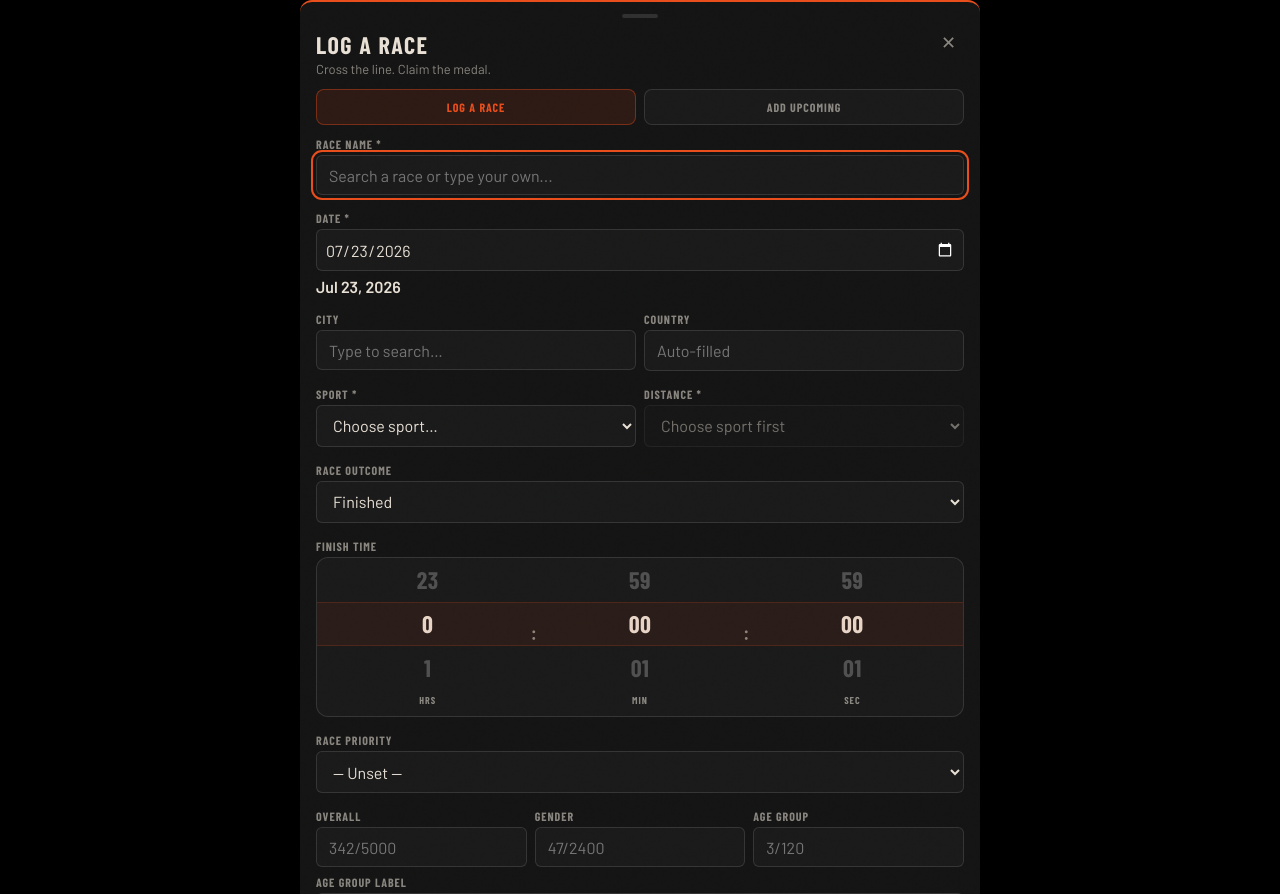
Test: AddRaceModal — catalog suggestions › shows suggestion when catalog contains a match
The image size is (1280, 894).
(page scrolled)
Type "berlin" into the field with placeholder "Search a race or type your own..." at (640, 175), box [316, 155, 964, 195]
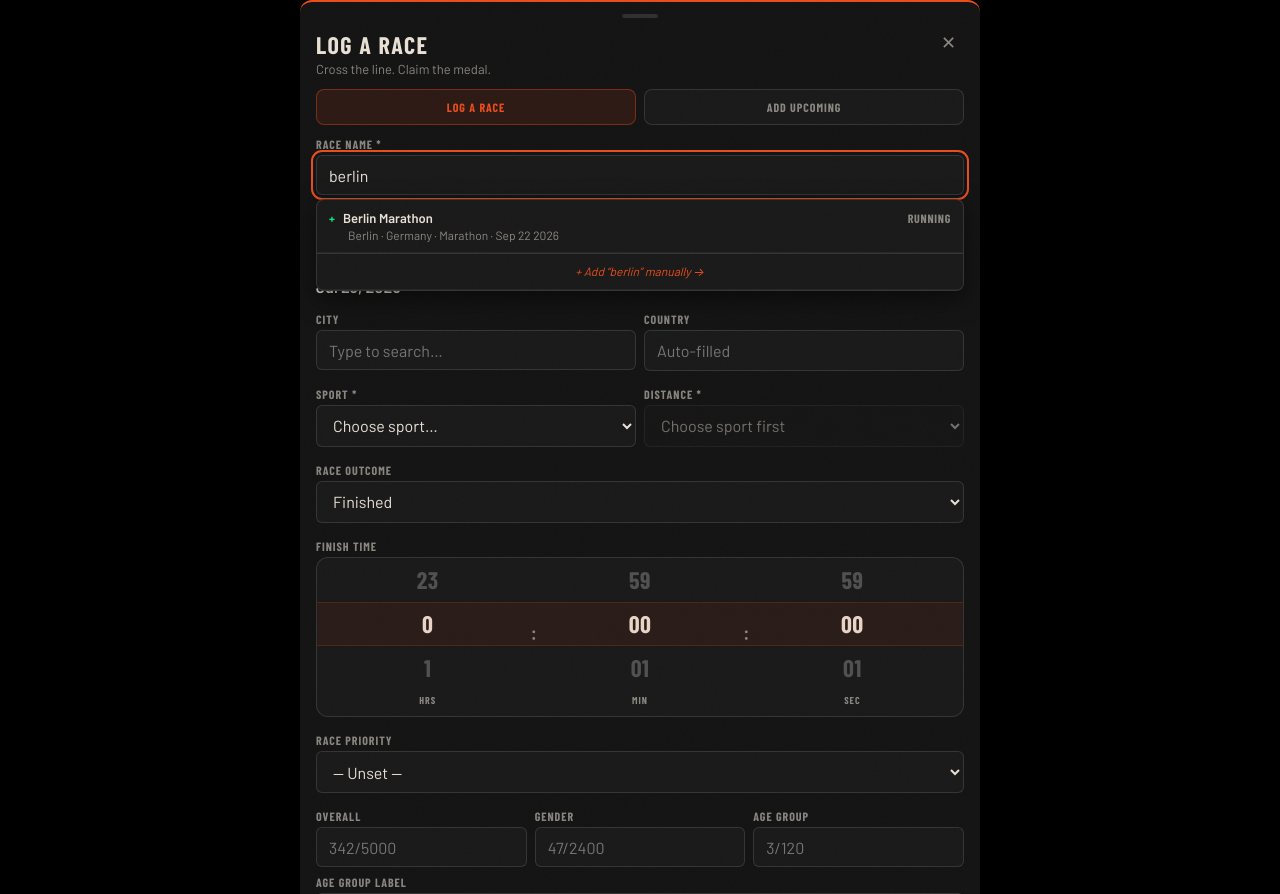
Result: the text "Berlin Marathon" is shown at [343, 210, 433, 226]
